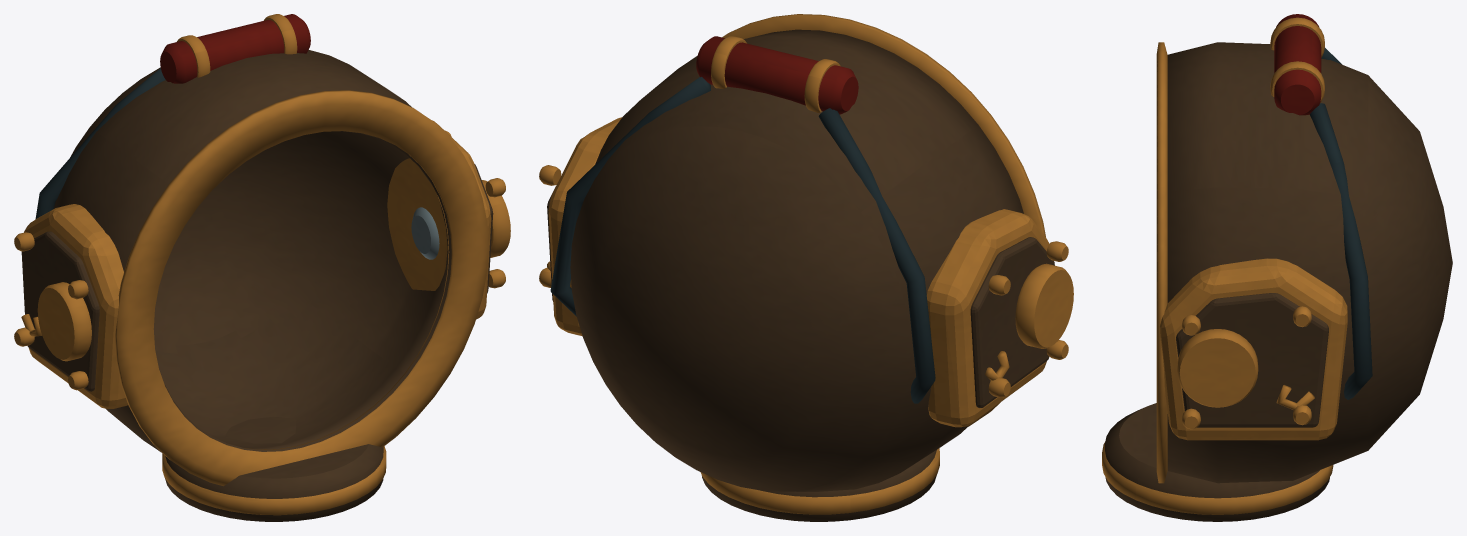
File: EldritchCannonCradle.obj
3 renders of one model, left to right at view 1: azimuth 30°, elevation 25°; view 2: azimuth 150°, elevation 25°; view 3: azimuth 270°, elevation 25°, orthographic. The views are drawn at different scales.
Parts seen in each view (by area): view 1: EldritchCannonCradle; view 2: EldritchCannonCradle; view 3: EldritchCannonCradle.
Boxes of the visible parts, x1,y1,x2,y2 form: EldritchCannonCradle: [14, 14, 510, 521]; EldritchCannonCradle: [539, 14, 1073, 521]; EldritchCannonCradle: [1102, 14, 1452, 521].
Size of the model in its own units: 0.552 by 0.518 by 0.373.
Materials: 5 (5 with a texture image).
